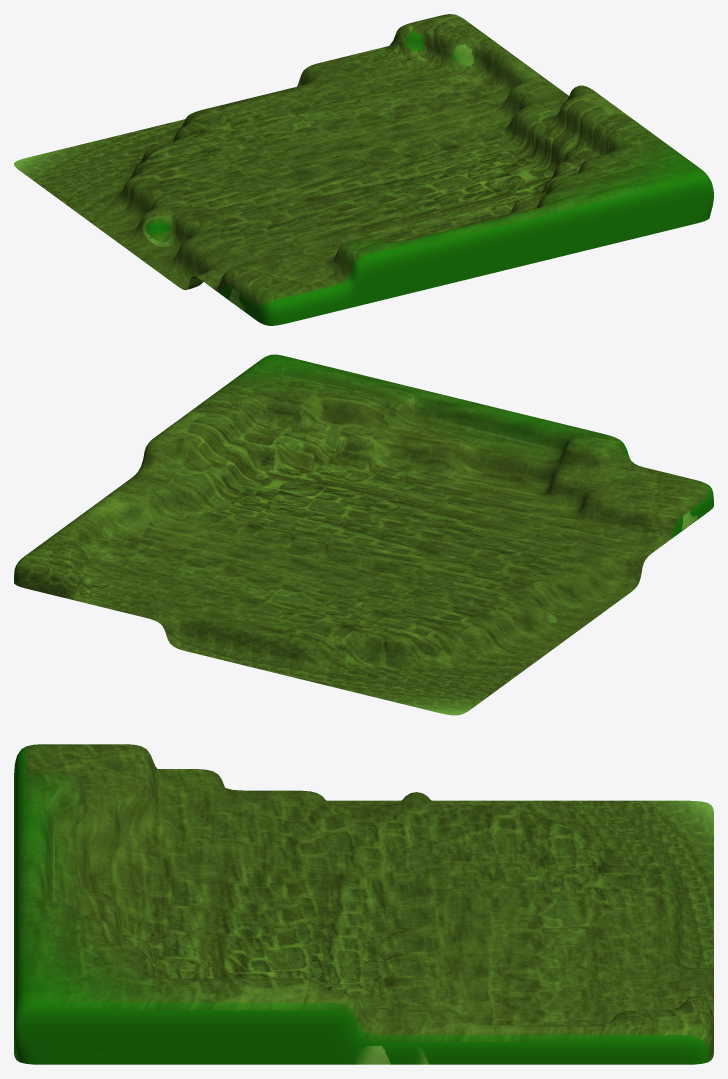
File: Level_draft.glb
3 renders of one model, top to bottom at view 1: azimuth 30°, elevation 25°; view 2: azimuth 150°, elevation 25°; view 3: azimuth 270°, elevation 25°, orthographic. The views are drawn at different scales.
Visible parts, largest first — view 1: Plane; view 2: Plane; view 3: Plane.
Part boxes in pixels (bbox=[...]): Plane: bbox=[14, 14, 713, 325]; Plane: bbox=[14, 354, 713, 715]; Plane: bbox=[14, 744, 713, 1064].
Bounding box in the file's own units: 2 × 0.3 × 2.
1 material, 1 textured.
